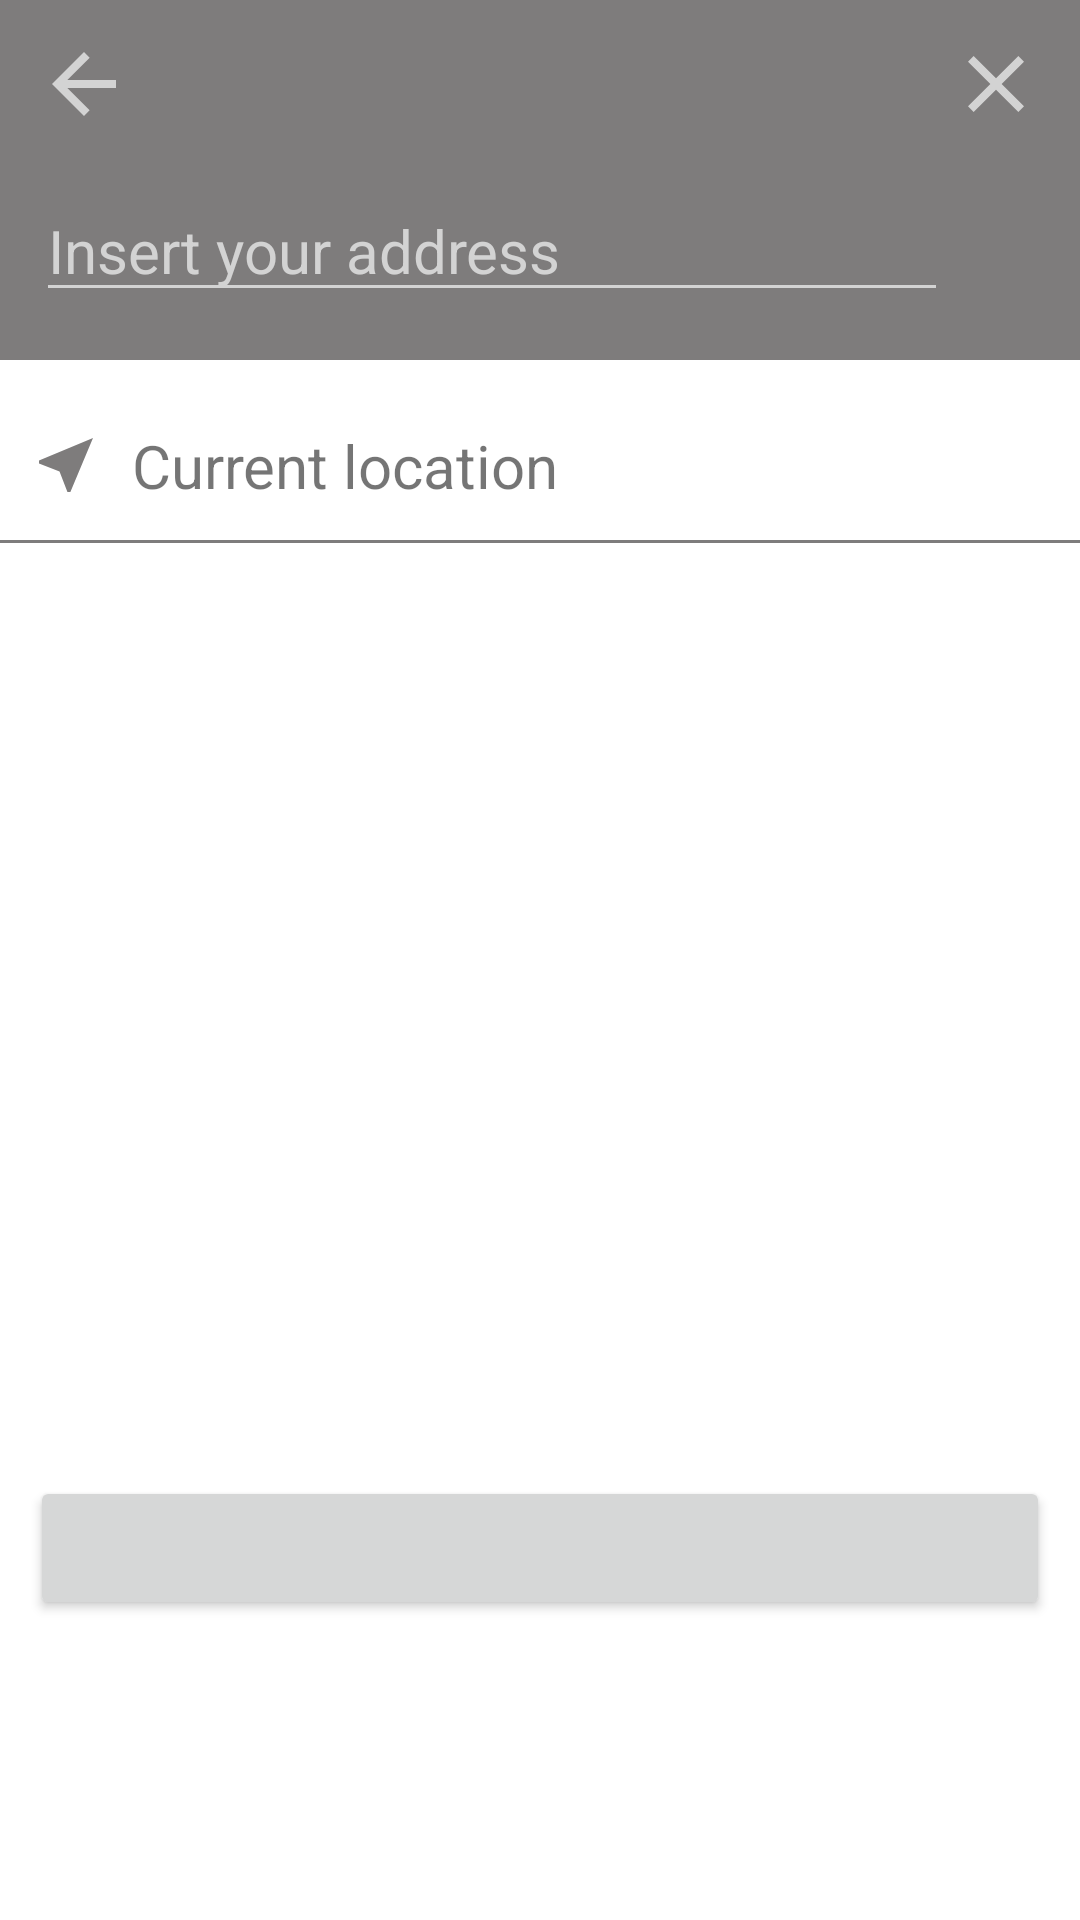

Where icons sit on this 1080px x 1920px app screen, as bbox=(x1, y1, x2, y2):
arrow back: bbox=(52, 52, 116, 116)
close: bbox=(968, 56, 1024, 112)
near me: bbox=(39, 438, 93, 492)
